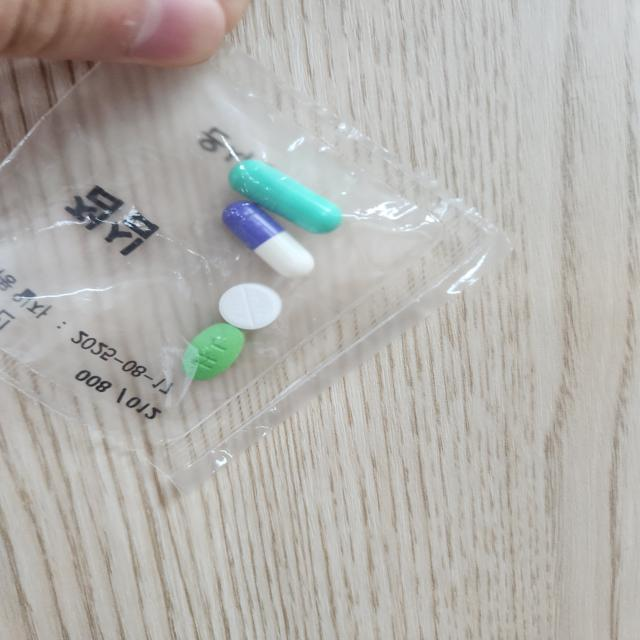러키펜정: (217, 283, 284, 335)
씨엠지세파클러캡슐: (222, 200, 317, 281)
에르도캡슐: (228, 159, 347, 237)
휴티렌정: (181, 323, 247, 386)
